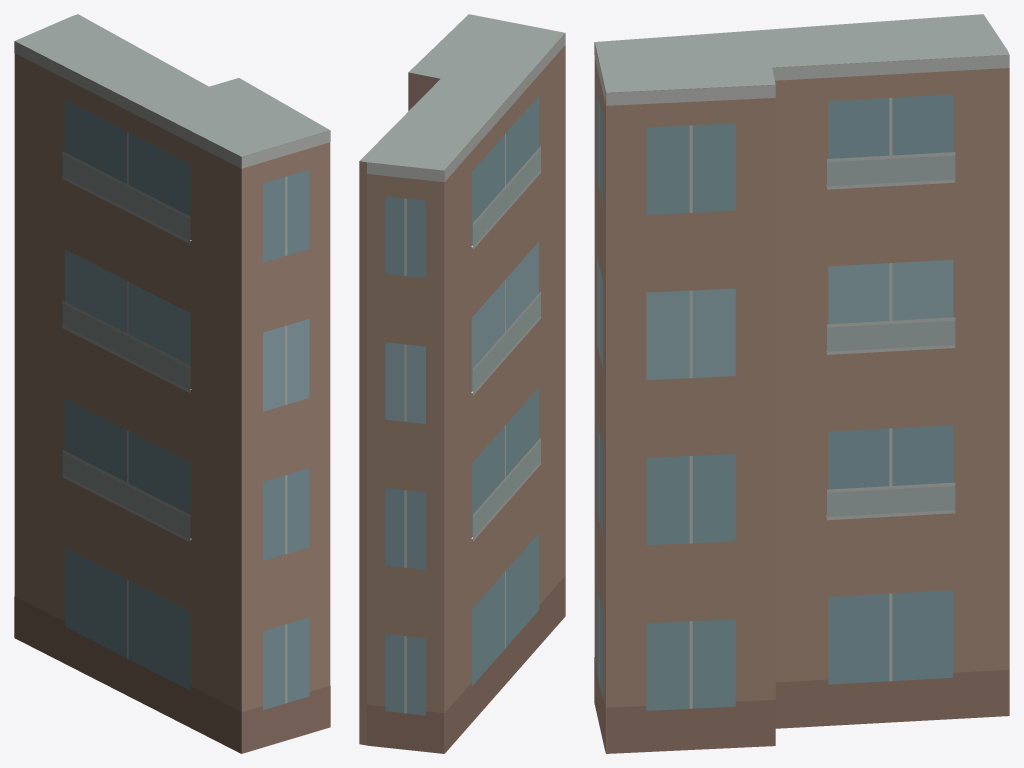
The model's file is survey-upis-32469526.glb.
The picture shows the model from 3 angles, left to right: view 1: azimuth 30°, elevation 25°; view 2: azimuth 150°, elevation 25°; view 3: azimuth 270°, elevation 25°; orthographic projection. The views are drawn at different scales.
Visible parts, largest first — view 1: survey-upis-32469526.tmp; view 2: survey-upis-32469526.tmp; view 3: survey-upis-32469526.tmp.
Boxes of the visible parts, x1=… form: survey-upis-32469526.tmp: x1=14, y1=14, x2=330, y2=753; survey-upis-32469526.tmp: x1=359, y1=14, x2=565, y2=753; survey-upis-32469526.tmp: x1=594, y1=14, x2=1009, y2=753.
Bounding box in the file's own units: 3.12 × 12.2 × 6.94.
